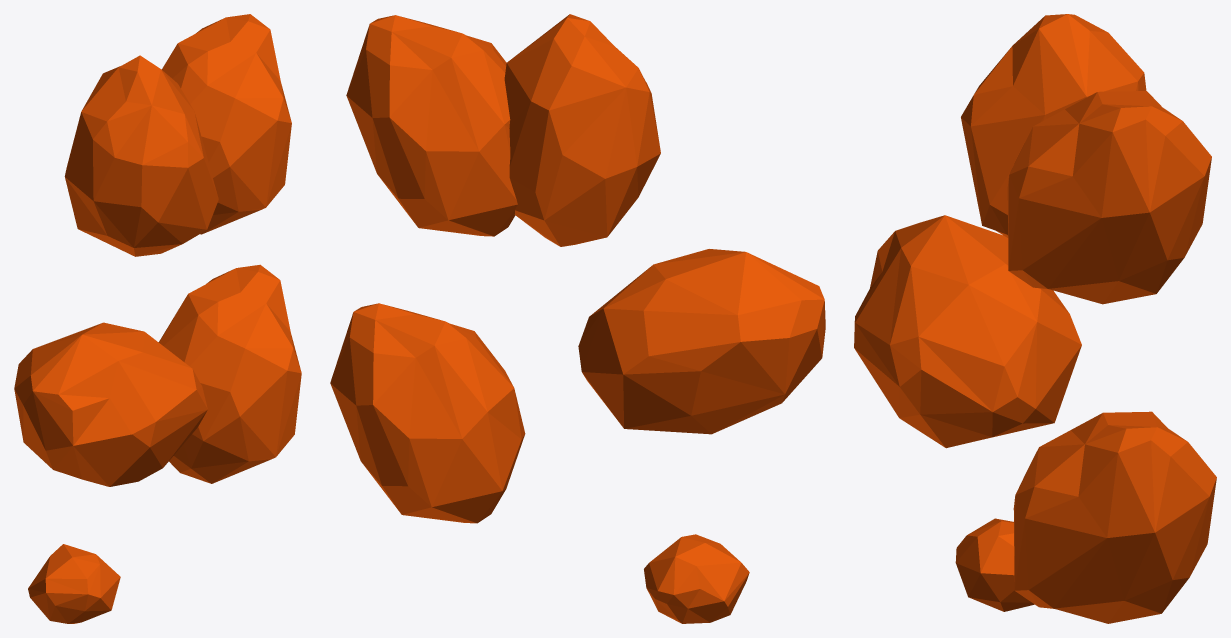
The model's file is tree-autumn-leaves-11-041.glb.
3 views of the same model, side by side, from view 1: azimuth 30°, elevation 25°; view 2: azimuth 150°, elevation 25°; view 3: azimuth 270°, elevation 25° (orthographic). The views are drawn at different scales.
Visible parts, largest first — view 1: TREE 11.003_384; view 2: TREE 11.003_384; view 3: TREE 11.003_384.
Part boxes in pixels (bbox=[...]): TREE 11.003_384: bbox=[14, 14, 301, 623]; TREE 11.003_384: bbox=[330, 14, 825, 623]; TREE 11.003_384: bbox=[854, 14, 1216, 623].
Size of the model in its own units: 1.25 by 1.85 by 0.9391.
